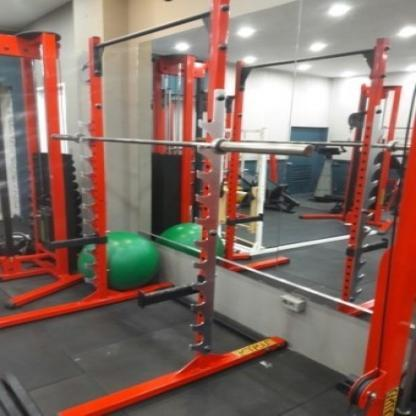smith machine: (45, 0, 236, 416)
